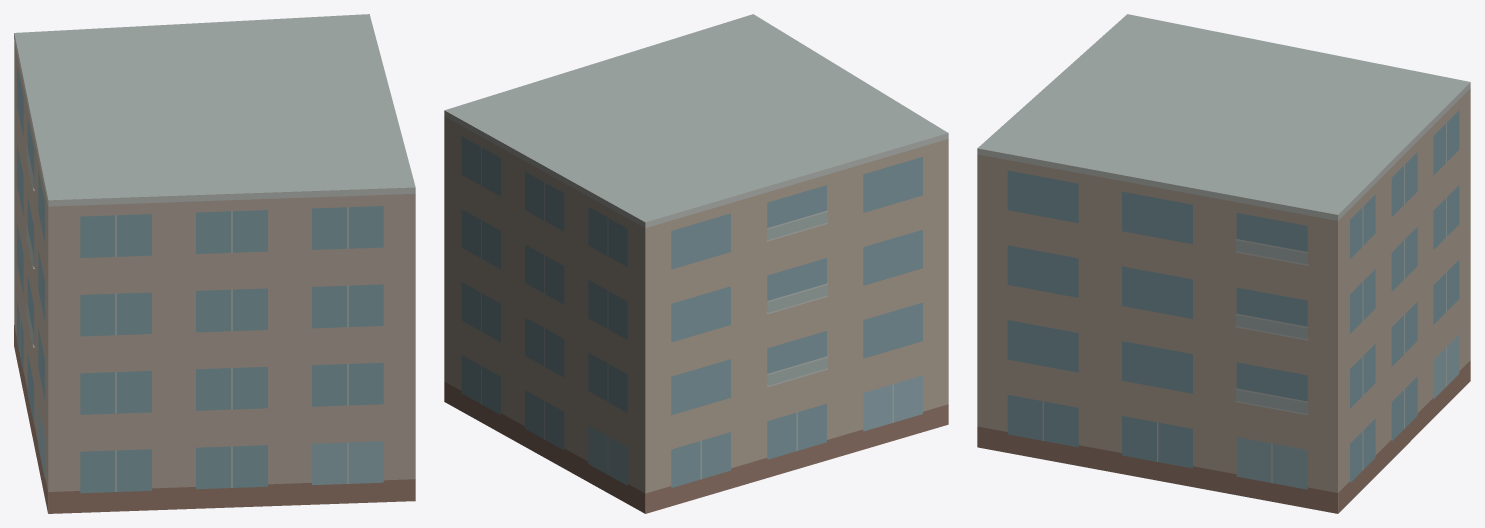
The model's file is survey-upis-32476139.glb.
3 views of the same model, side by side, from view 1: azimuth 30°, elevation 25°; view 2: azimuth 150°, elevation 25°; view 3: azimuth 270°, elevation 25° (orthographic). The views are drawn at different scales.
Visible parts, largest first — view 1: survey-upis-32476139.tmp; view 2: survey-upis-32476139.tmp; view 3: survey-upis-32476139.tmp.
Part boxes in pixels (x1=…): survey-upis-32476139.tmp: x1=14, y1=14, x2=415, y2=513; survey-upis-32476139.tmp: x1=444, y1=14, x2=948, y2=513; survey-upis-32476139.tmp: x1=977, y1=14, x2=1470, y2=513.
Bounding box in the file's own units: 17.6 × 12.2 × 18.26.
